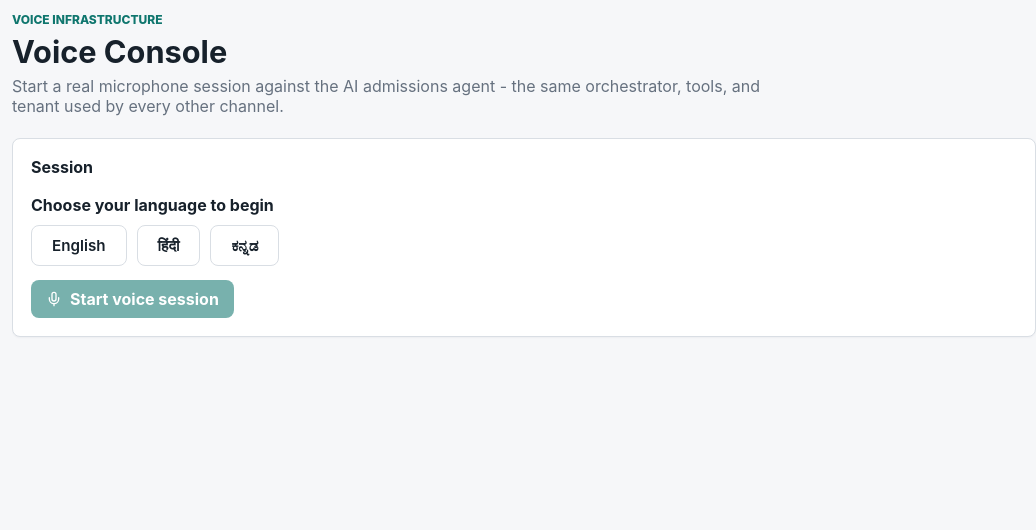
Test: VoiceConsole - continuous listening (client-side VAD) › falls back to listening immediately when there is no playable greeting audio (e.g. mock TTS)
Click the radio button labelled "English" at (79, 246), box [31,225,127,266]
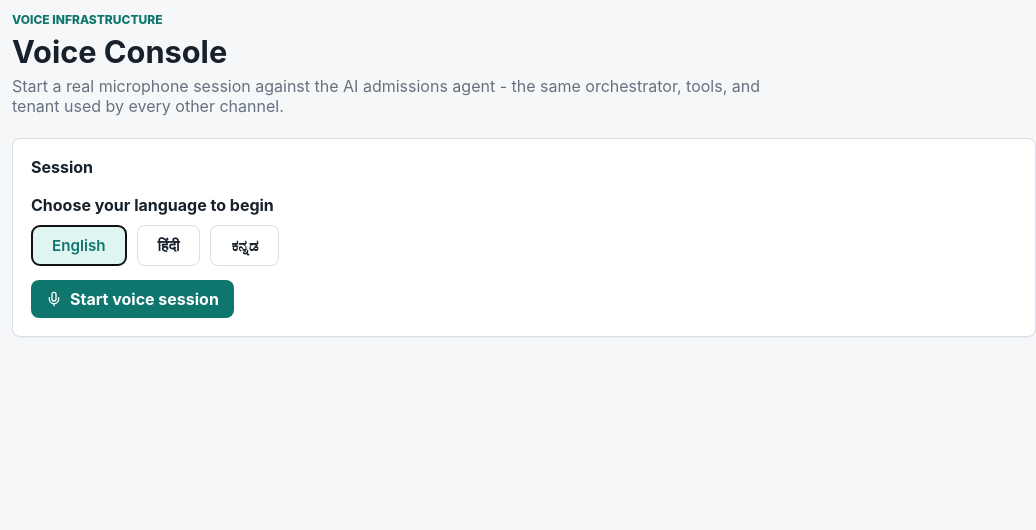
Expected: the button "Start voice session" is enabled
Click the button "Start voice session" at (132, 299), box [31,280,234,318]
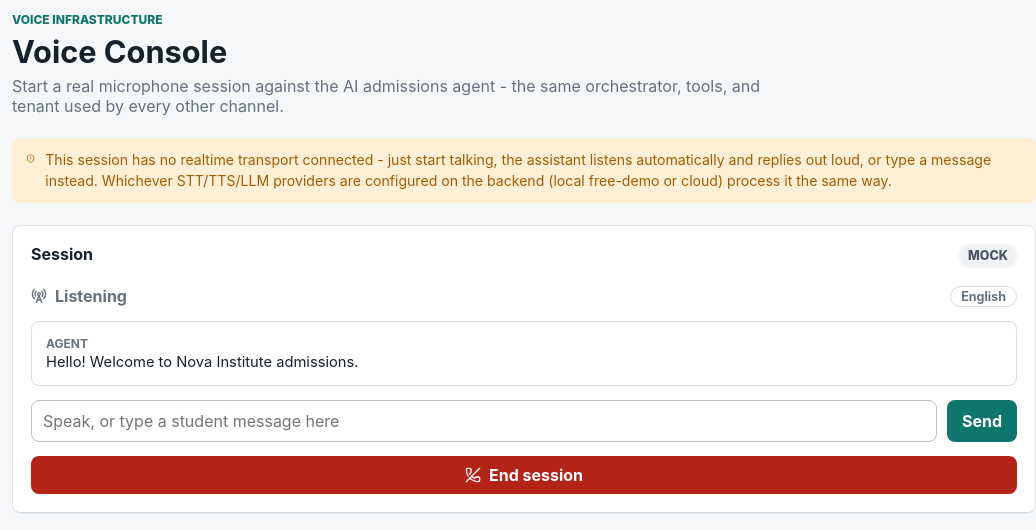
Expected: the text "Listening" is shown, [55,286,127,306]
